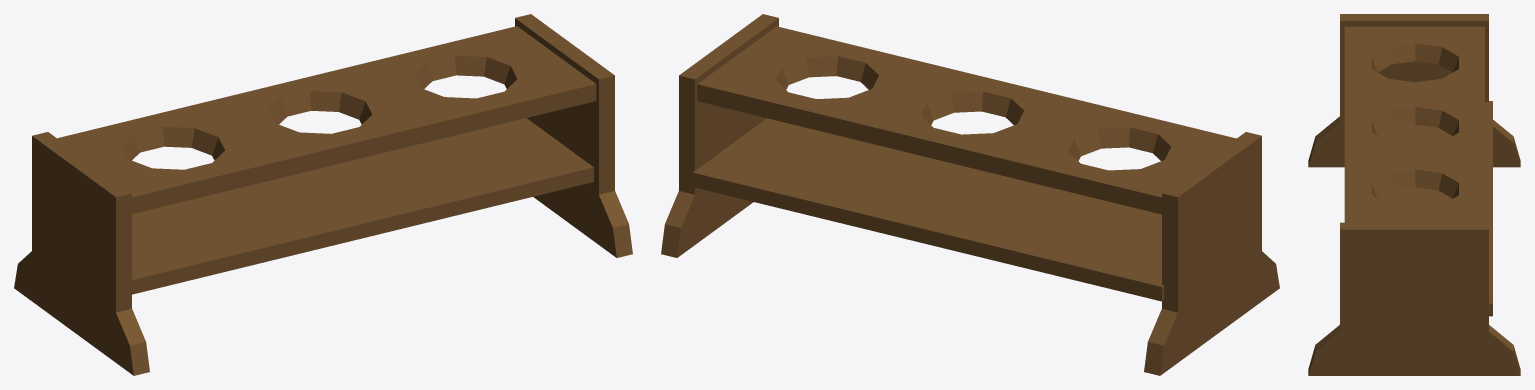
The model's file is Amphora_Stand.glb.
3 views of the same model, side by side, from view 1: azimuth 30°, elevation 25°; view 2: azimuth 150°, elevation 25°; view 3: azimuth 270°, elevation 25° (orthographic). The views are drawn at different scales.
Visible parts, largest first — view 1: Amphora_Stand.001; view 2: Amphora_Stand.001; view 3: Amphora_Stand.001.
Boxes of the visible parts, x1,y1,x2,y2 form: Amphora_Stand.001: (14, 14, 632, 375); Amphora_Stand.001: (661, 14, 1279, 375); Amphora_Stand.001: (1308, 14, 1520, 375).
Bounding box in the file's own units: 1.89 × 0.5989 × 0.7859.
1 material, 1 textured.
